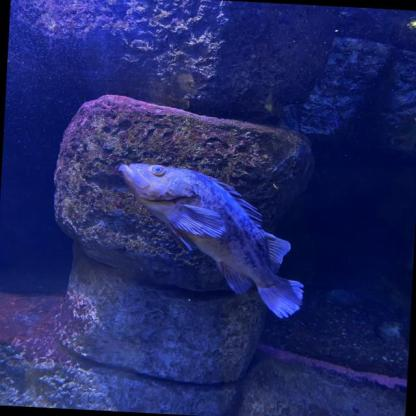fish: (112, 162, 310, 318)
